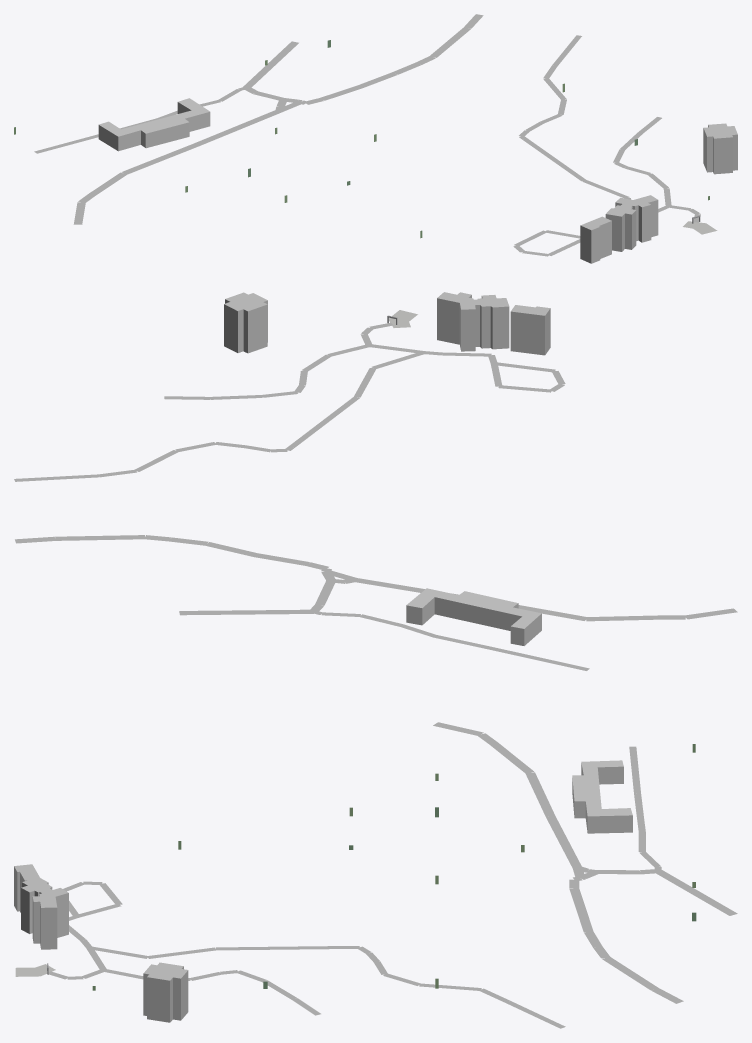
3 views of the same model, one above another, from view 1: azimuth 30°, elevation 25°; view 2: azimuth 150°, elevation 25°; view 3: azimuth 270°, elevation 25° (orthographic). The views are drawn at different scales.
Size of the model in its own units: 535 by 45.26 by 507.
